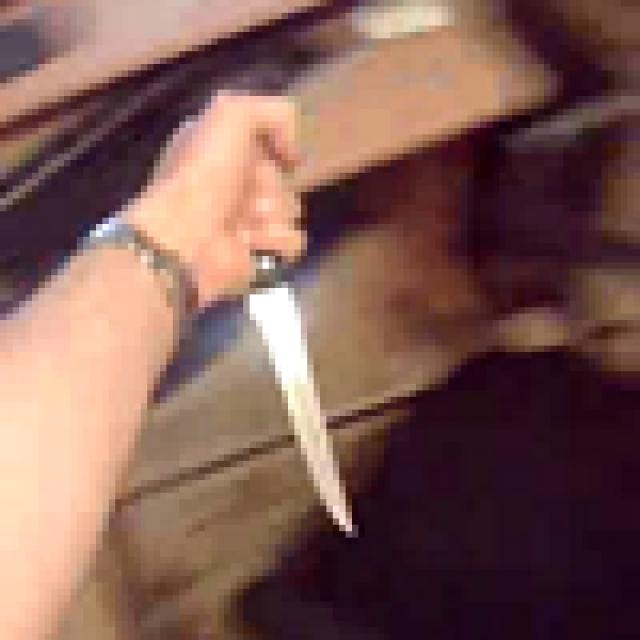Weapons: (234, 250, 358, 539)
